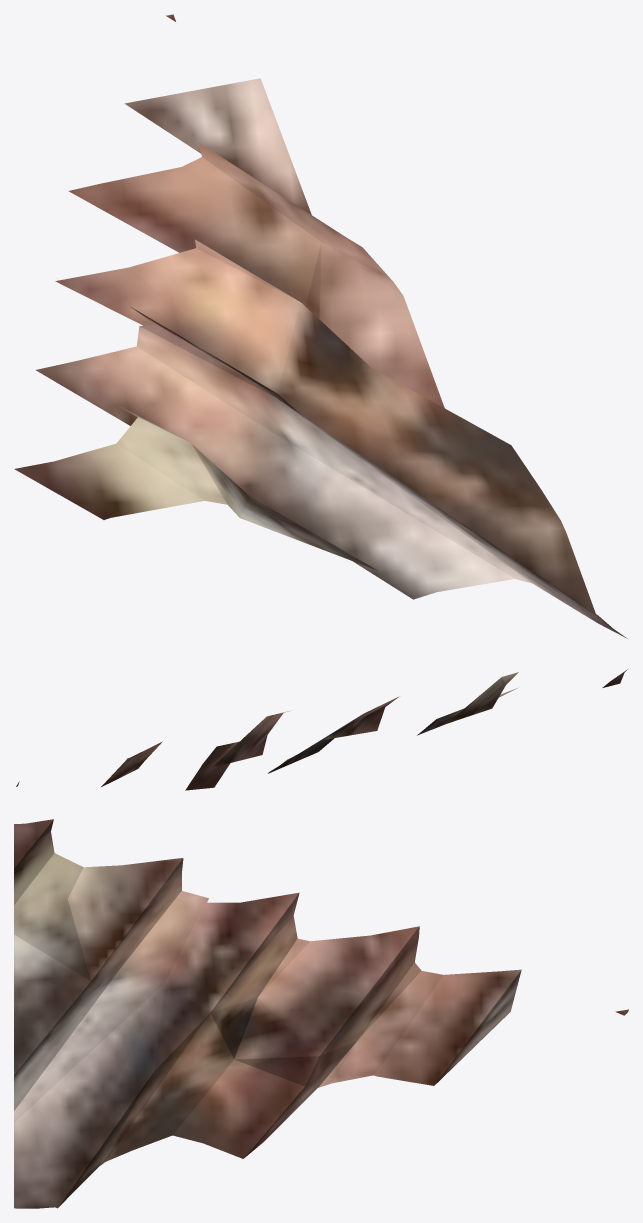
3 renders of one model, top to bottom at view 1: azimuth 30°, elevation 25°; view 2: azimuth 150°, elevation 25°; view 3: azimuth 270°, elevation 25°, orthographic. The views are drawn at different scales.
Bounding box in the file's own units: 0.6385 × 0.3046 × 0.8617.
Materials: 1 (1 with a texture image).
